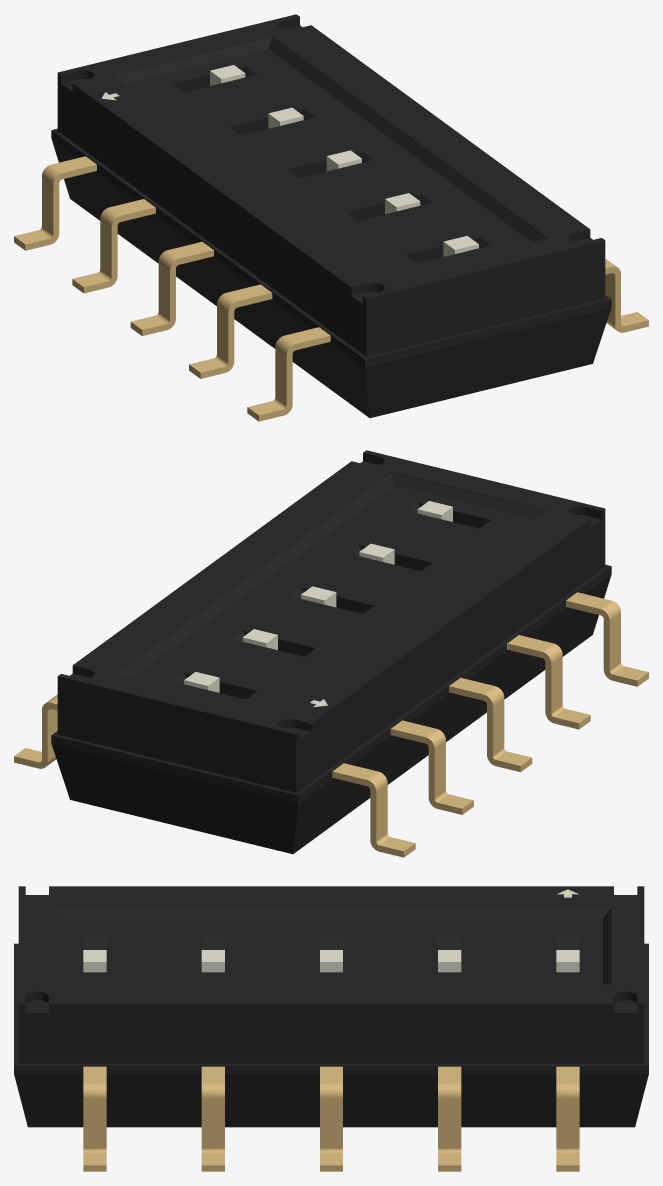
Rendered from kc-sw_dip_spstx05_slide_omron_a6s-510x_w8.9mm_p2.54mm.glb.
The picture shows the model from 3 angles, top to bottom: view 1: azimuth 30°, elevation 25°; view 2: azimuth 150°, elevation 25°; view 3: azimuth 270°, elevation 25°; orthographic projection.
Visible parts, largest first — view 1: 0_0_0_0, 0.75_0.5_0.25_0.9, 0.75_0.75_0.6666666666666666_0; view 2: 0_0_0_0, 0.75_0.5_0.25_0.9, 0.75_0.75_0.6666666666666666_0; view 3: 0_0_0_0, 0.75_0.5_0.25_0.9, 0.75_0.75_0.6666666666666666_0.
Part boxes in pixels (bbox=[...]): 0_0_0_0: bbox=[51, 14, 611, 418]; 0.75_0.5_0.25_0.9: bbox=[14, 156, 648, 421]; 0.75_0.75_0.6666666666666666_0: bbox=[101, 65, 478, 256]; 0_0_0_0: bbox=[51, 450, 611, 854]; 0.75_0.5_0.25_0.9: bbox=[14, 592, 648, 857]; 0.75_0.75_0.6666666666666666_0: bbox=[184, 501, 452, 707]; 0_0_0_0: bbox=[14, 886, 648, 1127]; 0.75_0.5_0.25_0.9: bbox=[83, 1066, 579, 1171]; 0.75_0.75_0.6666666666666666_0: bbox=[83, 889, 579, 972].
Bounding box in the file's own units: 0.98 × 0.3075 × 1.36.
